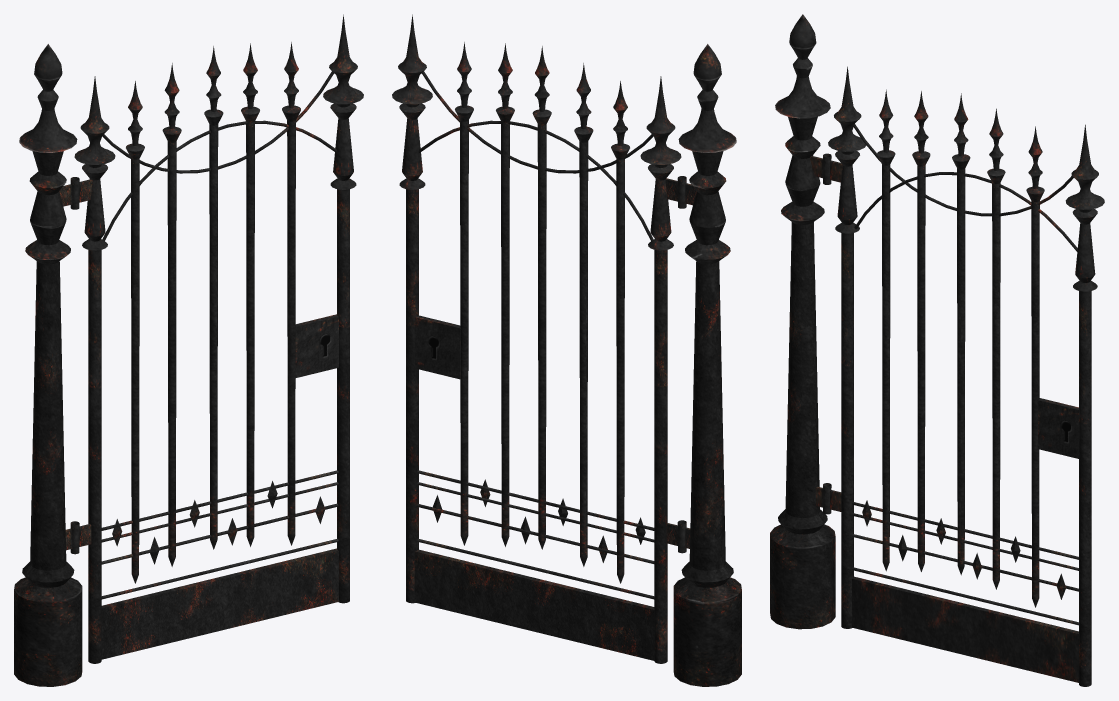
Rendered from fence door.FBX.
3 views of the same model, side by side, from view 1: azimuth 30°, elevation 25°; view 2: azimuth 150°, elevation 25°; view 3: azimuth 330°, elevation 25° (orthographic). The views are drawn at different scales.
Visible parts, largest first — view 1: Fence_door, fence_door_ support; view 2: Fence_door, fence_door_ support; view 3: Fence_door, fence_door_ support.
Boxes of the visible parts, bbox=[...] form: Fence_door: bbox=[70, 14, 363, 663]; fence_door_ support: bbox=[14, 44, 82, 686]; Fence_door: bbox=[392, 14, 686, 663]; fence_door_ support: bbox=[673, 44, 741, 686]; Fence_door: bbox=[823, 66, 1104, 686]; fence_door_ support: bbox=[770, 14, 835, 629].
Size of the model in its own units: 334 by 585 by 58.21.
